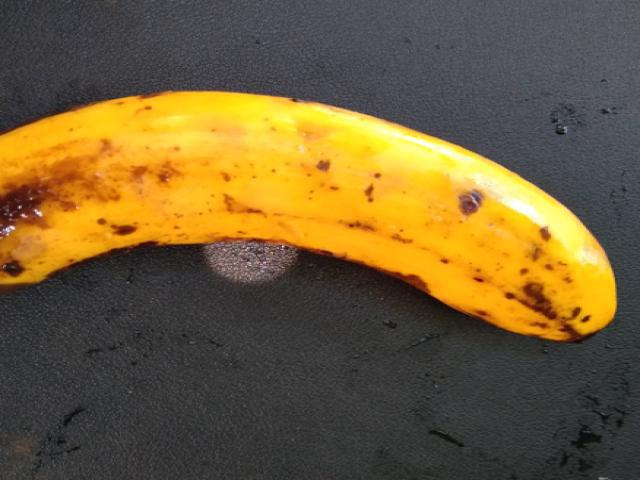overripe: (106, 76, 637, 366)
rotten: (0, 91, 176, 321)
